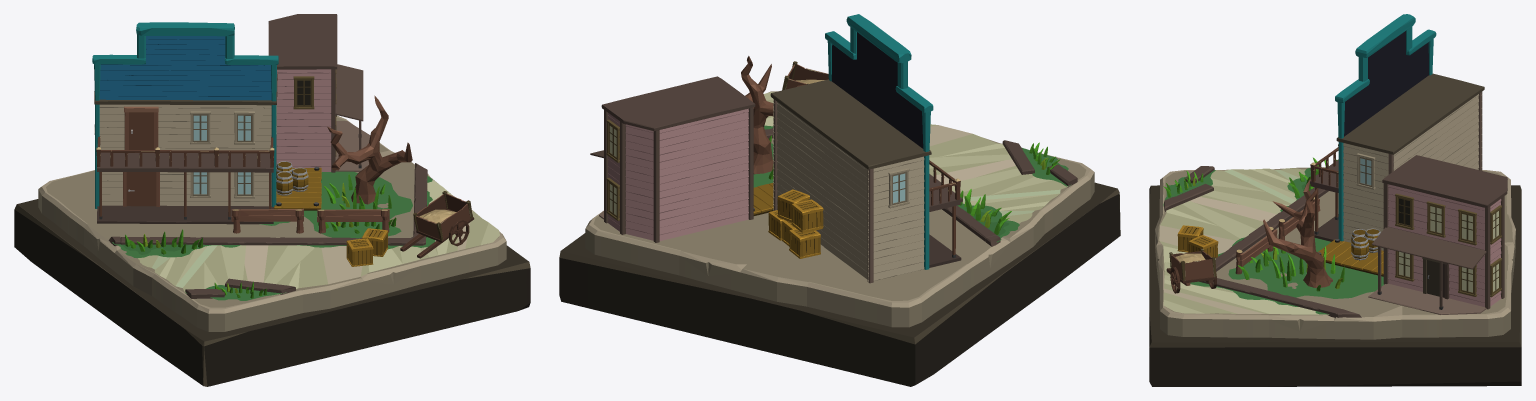
File: Stage002.fbx
The picture shows the model from 3 angles, left to right: view 1: azimuth 30°, elevation 25°; view 2: azimuth 150°, elevation 25°; view 3: azimuth 270°, elevation 25°; orthographic projection. The views are drawn at different scales.
Parts seen in each view (by area): view 1: Plane001, Object026; view 2: Plane001, Object026; view 3: Plane001, Object026.
Part boxes in pixels (x1=…): Plane001: x1=92, y1=14, x2=499, y2=300; Object026: x1=14, y1=115, x2=530, y2=386; Plane001: x1=590, y1=14, x2=1077, y2=283; Object026: x1=559, y1=91, x2=1120, y2=386; Plane001: x1=1159, y1=14, x2=1507, y2=317; Object026: x1=1149, y1=167, x2=1521, y2=386.
Bounding box in the file's own units: 152 × 111 × 152.
Materials: 1 (1 with a texture image).
